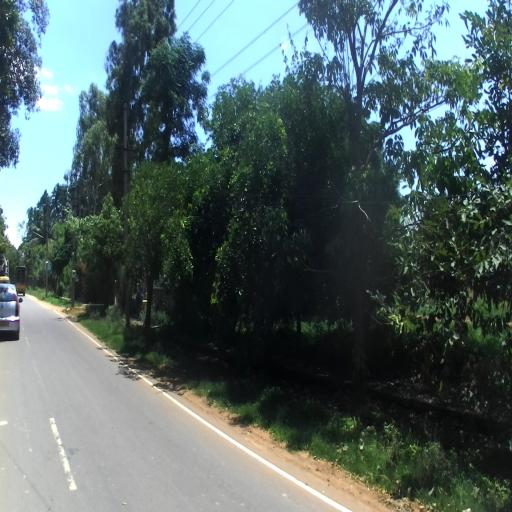street_light_0: (34, 232, 48, 250)
